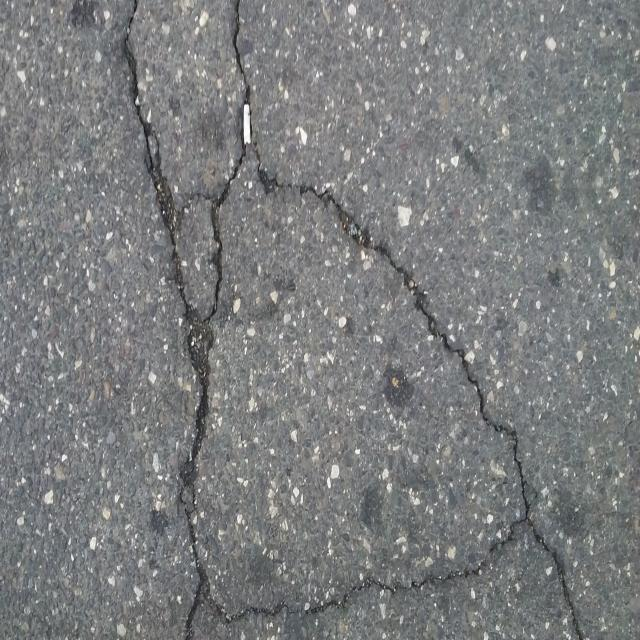Crack: (123, 0, 584, 640)
